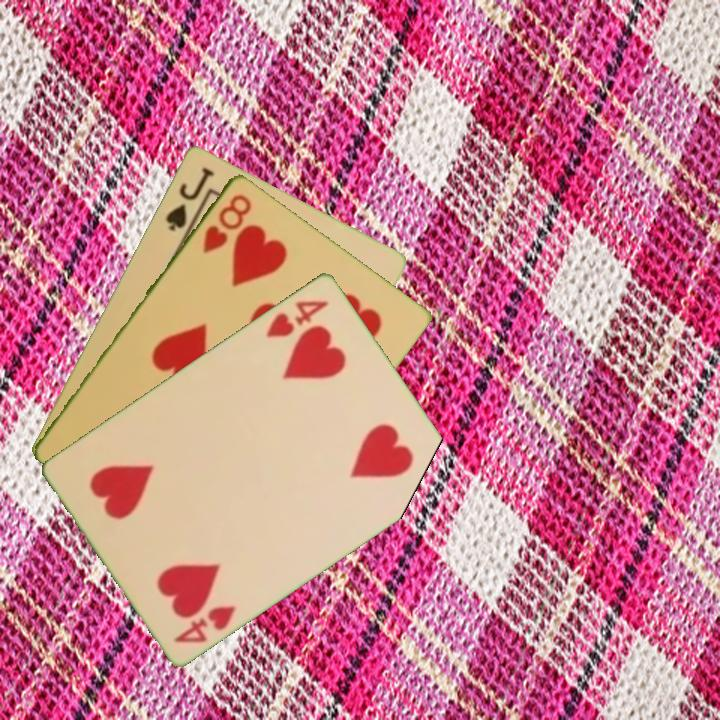4h: (170, 601, 239, 646), (262, 296, 332, 340)
8h: (199, 189, 255, 256)
Js: (161, 163, 217, 234)
